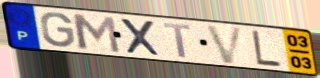G: (39, 11, 77, 49)
L: (250, 29, 284, 69)
M: (69, 12, 123, 55)
T: (161, 21, 193, 59)
V: (204, 24, 247, 65)
X: (117, 16, 163, 58)
